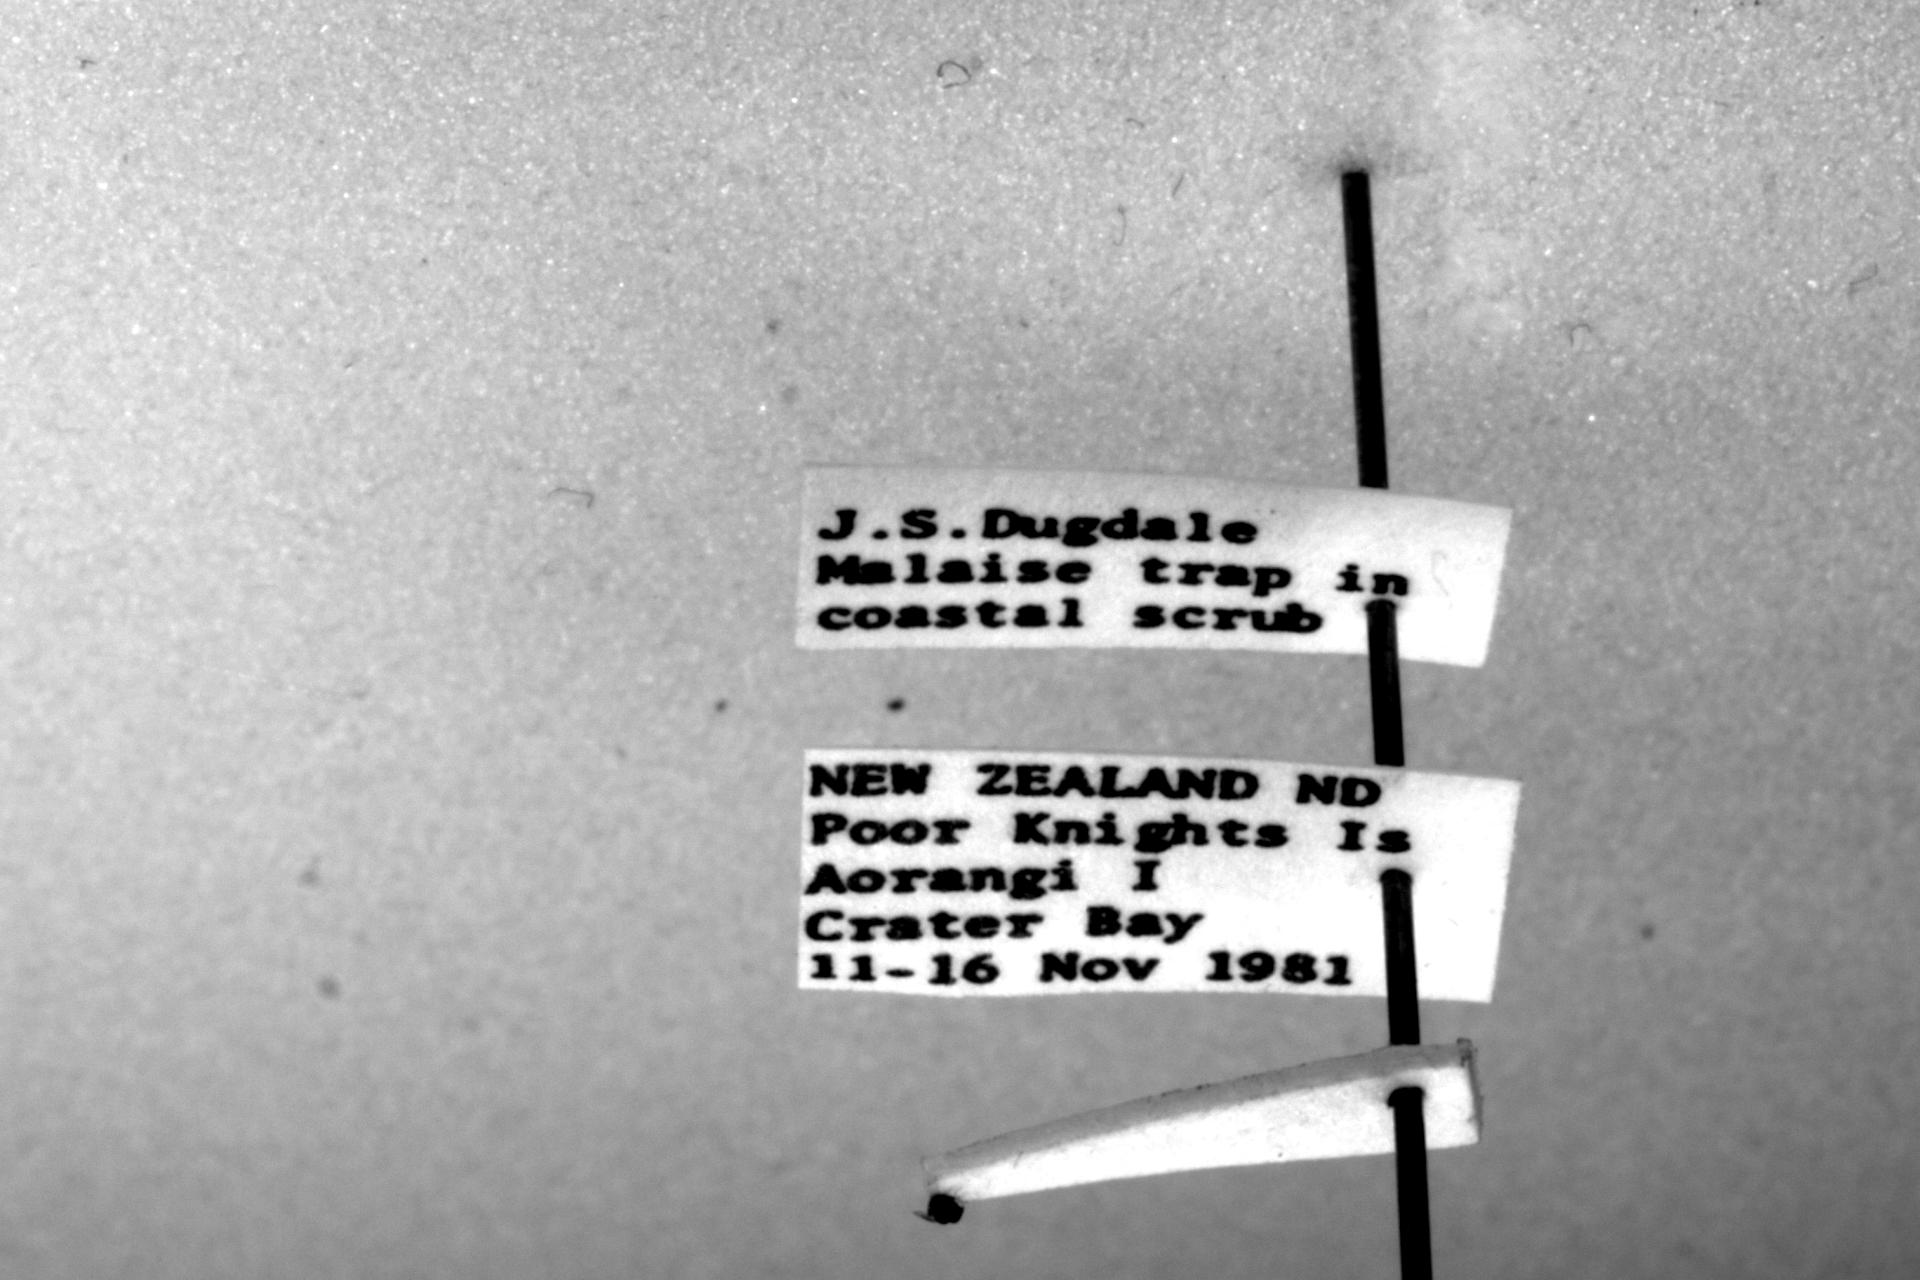typed_label: (799, 750, 1519, 1001), (794, 466, 1511, 667)
